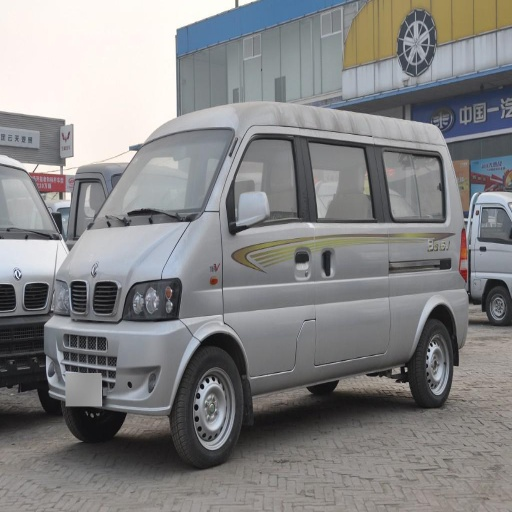back_left_door: (303, 134, 381, 362)
front_bumper: (47, 277, 196, 410)
front_glass: (103, 132, 235, 226)
front_left_door: (222, 132, 320, 378)
trunk: (339, 230, 470, 361)
